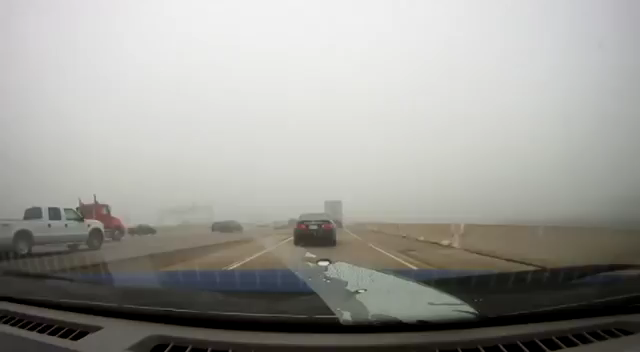bus: (61, 194, 126, 242), (324, 199, 343, 228)
car: (1, 205, 105, 254), (293, 212, 337, 247), (211, 219, 243, 234), (128, 223, 157, 236)
